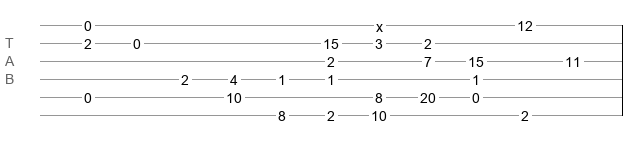0: (84, 18, 92, 28), (84, 90, 92, 100), (133, 36, 141, 46), (472, 90, 480, 100)
1: (278, 72, 286, 82), (327, 72, 335, 82), (472, 72, 480, 82)
10: (226, 90, 242, 100), (371, 108, 387, 118)
11: (565, 54, 581, 64)
12: (517, 18, 533, 28)
15: (323, 36, 339, 46), (468, 54, 484, 64)
2: (84, 36, 92, 46), (181, 72, 189, 82), (327, 54, 335, 64), (327, 108, 335, 118), (424, 36, 432, 46), (521, 108, 529, 118)
20: (420, 90, 436, 100)
3: (375, 36, 383, 46)
4: (230, 72, 238, 82)
7: (424, 54, 432, 64)
8: (278, 108, 286, 118), (375, 90, 383, 100)
x: (376, 19, 383, 27)
